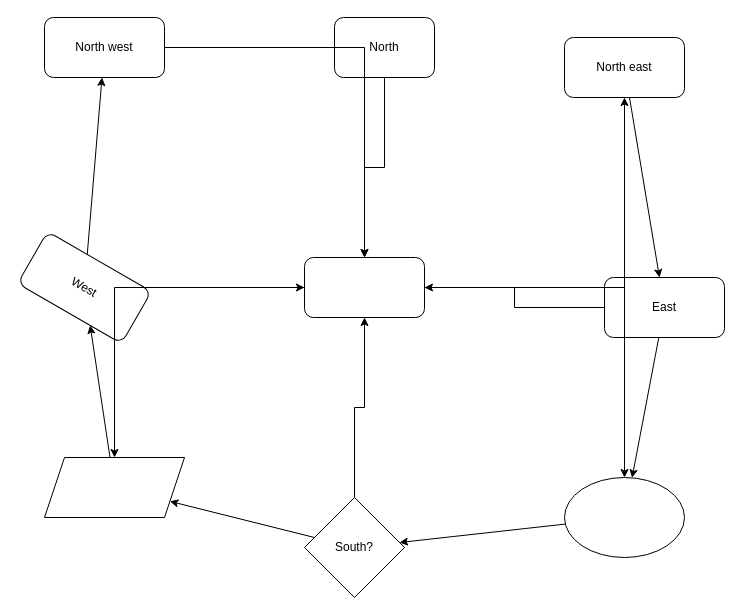
Image size: 743x615. Some labels were removed from this diagram. Here are the shapes that lost their labels. From the top down, the box of each, then its label:
(304, 256, 424, 318): Centre
(44, 456, 184, 518): South west
(564, 476, 684, 558): South east
